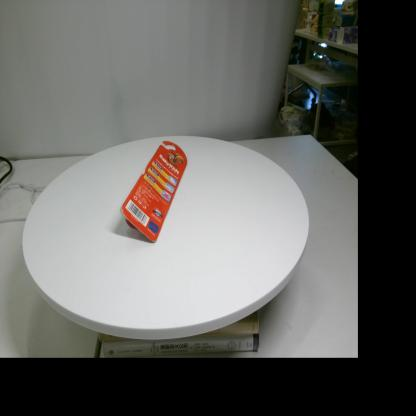Personal Hygiene: (120, 140, 188, 242)
